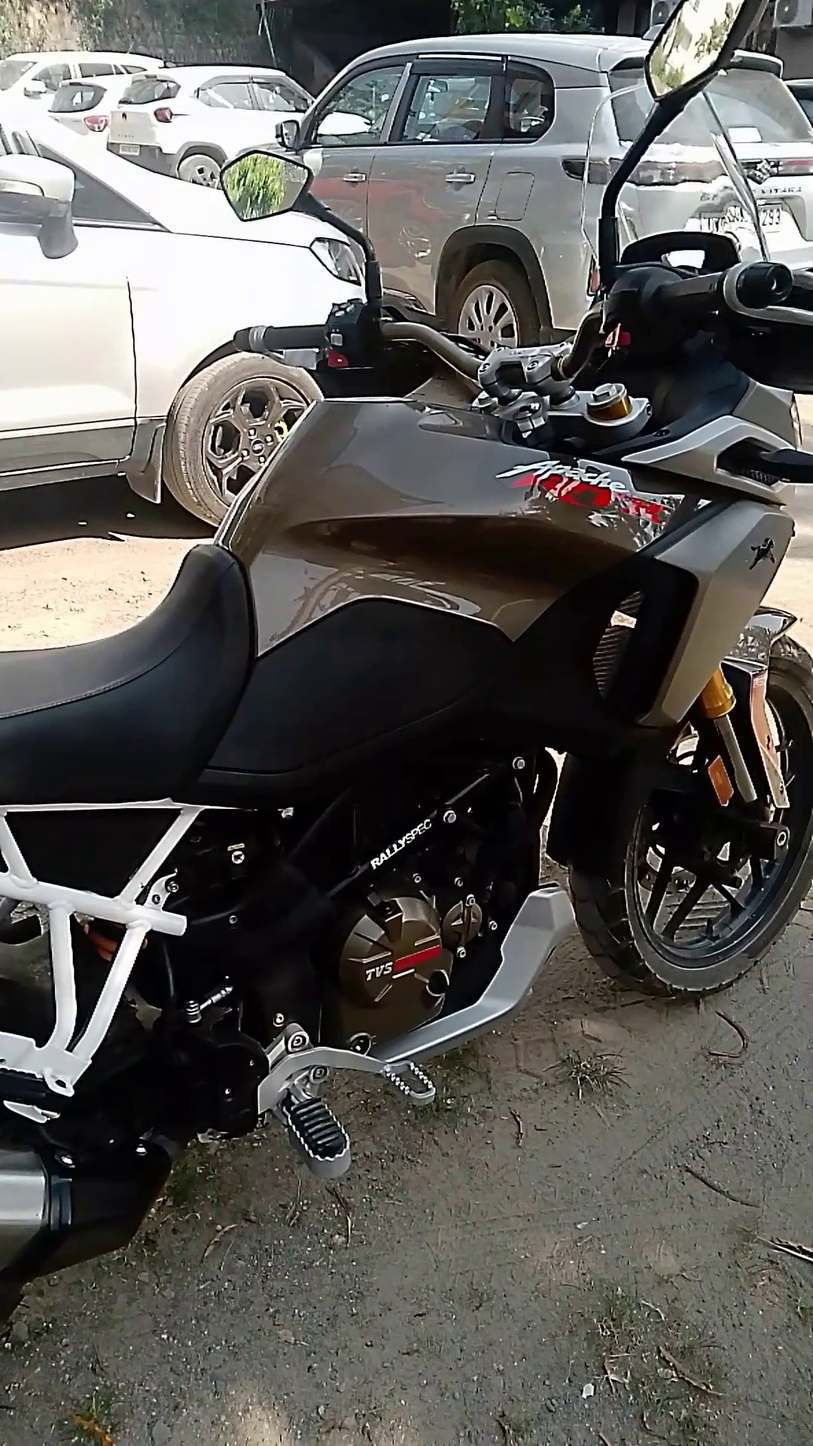bike-engine: (316, 874, 492, 1060)
bike-engine-level: (343, 1027, 375, 1052)
bike-oil-cap: (419, 964, 454, 1005)
